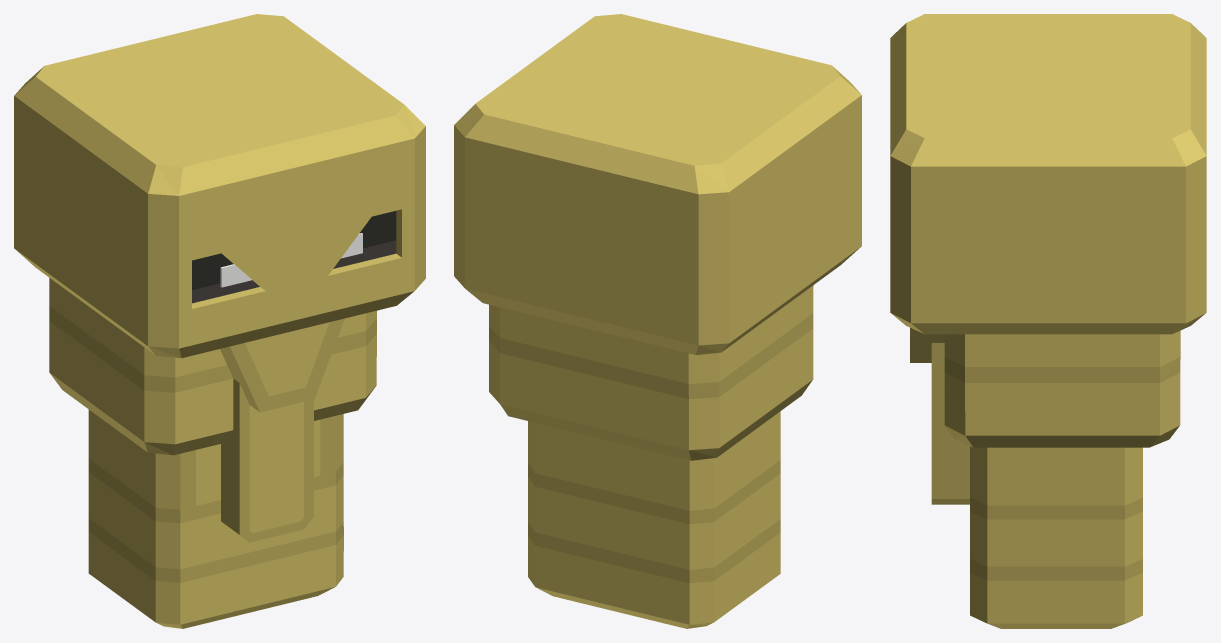
3 renders of one model, left to right at view 1: azimuth 30°, elevation 25°; view 2: azimuth 150°, elevation 25°; view 3: azimuth 270°, elevation 25°, orthographic. The views are drawn at different scales.
Parts seen in each view (by area): view 1: 0014_kakuna; view 2: 0014_kakuna; view 3: 0014_kakuna.
Part boxes in pixels (<box>): 0014_kakuna: <box>14,14,425,628</box>; 0014_kakuna: <box>454,14,861,628</box>; 0014_kakuna: <box>890,14,1206,628</box>.
Bounding box in the file's own units: 0.9743 × 1.67 × 0.9354.
Materials: 1 (1 with a texture image).
